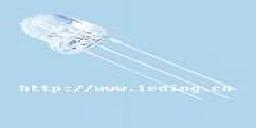LED: (15, 11, 234, 107)
